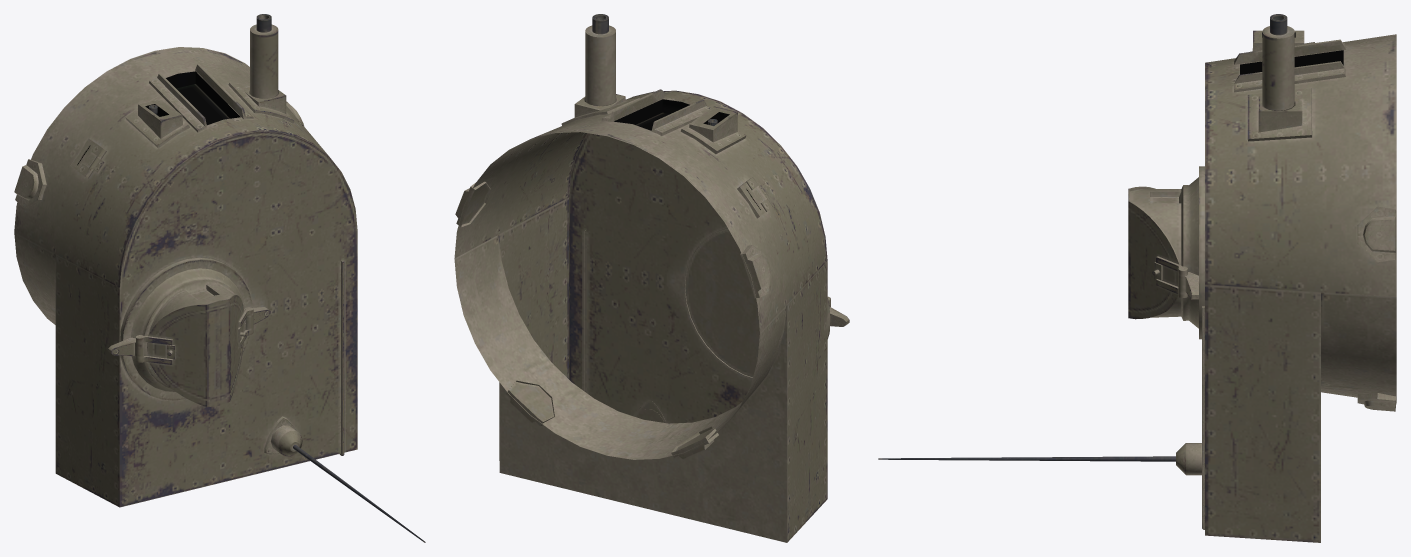
File: Turret_02.glb
3 renders of one model, left to right at view 1: azimuth 30°, elevation 25°; view 2: azimuth 150°, elevation 25°; view 3: azimuth 270°, elevation 25°, orthographic. The views are drawn at different scales.
Parts seen in each view (by area): view 1: set_0_group_0; view 2: set_0_group_0; view 3: set_0_group_0.
Part boxes in pixels (x1,y1,x2,y2): set_0_group_0: [14, 14, 425, 542]; set_0_group_0: [454, 14, 849, 542]; set_0_group_0: [878, 14, 1396, 542].
Bounding box in the file's own units: 1.56 × 2.25 × 2.18.
Materials: 1 (1 with a texture image).
